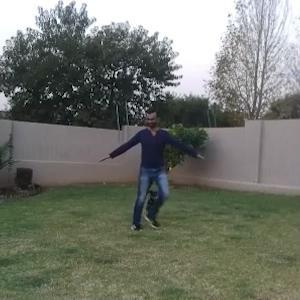land: (107, 114, 203, 226)
